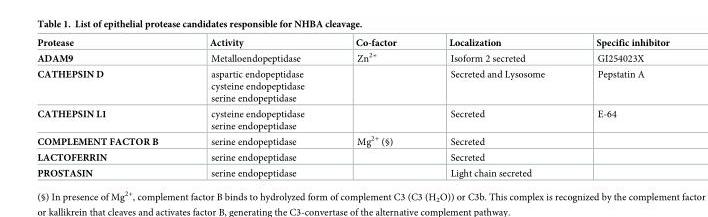table: (36, 37, 668, 178)
table column: (36, 37, 183, 178), (422, 37, 569, 178), (183, 37, 329, 178), (569, 37, 668, 178), (329, 37, 422, 178)
table column header: (36, 37, 668, 49)
table row: (36, 66, 668, 105), (36, 105, 668, 132), (36, 49, 668, 66), (36, 132, 668, 149), (36, 149, 668, 165), (36, 165, 668, 178), (36, 37, 668, 49)
